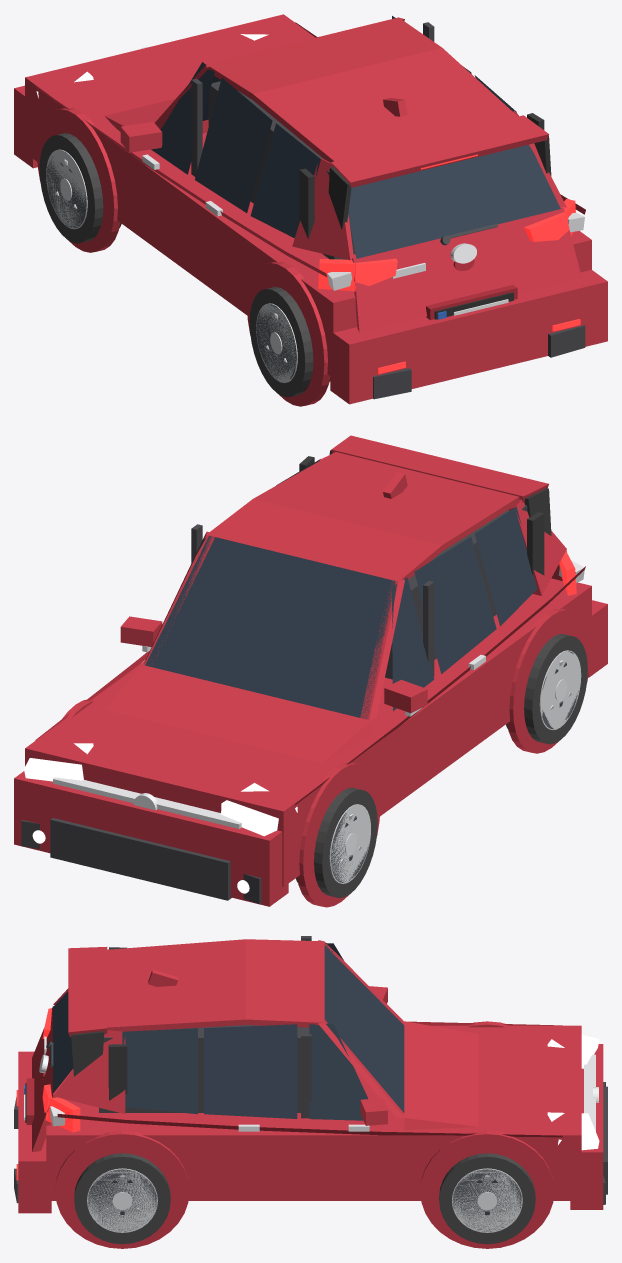
File: myvi.glb
The picture shows the model from 3 angles, top to bottom: view 1: azimuth 30°, elevation 25°; view 2: azimuth 150°, elevation 25°; view 3: azimuth 270°, elevation 25°; orthographic projection. The views are drawn at different scales.
Visible parts, largest first — view 1: Body_Tub, Body_Roof, Bumper_Rear, Glass_RearWindshield, Tailgate_Panel, Glass_RearWin_L, Spoiler_Main_Wing, Glass_QuarterWin_L, WheelArch_Flare_Front_L, WheelArch_Flare_Rear_L, Tire_Front_L, Tire_Rear_L (+21 smaller); view 2: Body_Tub, Glass_Windshield, Body_Roof, Body_Hood, Bumper_Front, Front_Air_Dam, Glass_RearWin_L, Glass_QuarterWin_L, Spoiler_Main_Wing, WheelArch_Flare_Rear_L, WheelArch_Flare_Front_L, Tire_Front_L (+19 smaller); view 3: Body_Tub, Body_Roof, Glass_RearWin_R, Body_Hood, Glass_Windshield, Glass_QuarterWin_R, WheelArch_Flare_Rear_R, WheelArch_Flare_Front_R, Glass_FrontWin_R, Tire_Rear_R, Tire_Front_R, Spoiler_Main_Wing (+21 smaller).
Boxes of the visible parts, box(x1,y1,x2,y2) form: Body_Tub: box(25, 14, 591, 375); Body_Roof: box(206, 17, 517, 162); Bumper_Rear: box(330, 270, 607, 404); Glass_RearWindshield: box(348, 144, 560, 258); Tailgate_Panel: box(351, 207, 581, 332); Glass_RearWin_L: box(195, 77, 272, 212); Spoiler_Main_Wing: box(331, 115, 548, 187); Glass_QuarterWin_L: box(250, 123, 320, 238); WheelArch_Flare_Front_L: box(37, 108, 120, 252); WheelArch_Flare_Rear_L: box(247, 262, 330, 406); Tire_Front_L: box(39, 133, 121, 243); Tire_Rear_L: box(249, 287, 330, 397); Body_Tub: box(25, 578, 591, 886); Glass_Windshield: box(145, 535, 395, 719); Body_Roof: box(206, 452, 519, 581); Body_Hood: box(104, 665, 373, 762); Bumper_Front: box(14, 771, 288, 906); Front_Air_Dam: box(50, 818, 231, 900); Glass_RearWin_L: box(414, 536, 496, 673); Glass_QuarterWin_L: box(474, 506, 537, 626); Spoiler_Main_Wing: box(331, 435, 548, 502); WheelArch_Flare_Rear_L: box(507, 609, 590, 753); WheelArch_Flare_Front_L: box(297, 762, 380, 907); Tire_Front_L: box(296, 787, 377, 898); Body_Tub: box(46, 1025, 581, 1200); Body_Roof: box(107, 939, 324, 1031); Glass_RearWin_R: box(204, 1024, 297, 1118); Body_Hood: box(404, 1021, 478, 1130); Glass_Windshield: box(324, 943, 404, 1112); Glass_QuarterWin_R: box(122, 1028, 197, 1114); WheelArch_Flare_Rear_R: box(55, 1131, 189, 1248); WheelArch_Flare_Front_R: box(420, 1131, 554, 1248); Glass_FrontWin_R: box(309, 1023, 368, 1120); Tire_Rear_R: box(74, 1153, 170, 1244); Tire_Front_R: box(439, 1153, 535, 1244); Spoiler_Main_Wing: box(68, 947, 107, 1036).
Size of the model in its own units: 1.98 by 1.62 by 3.94.
